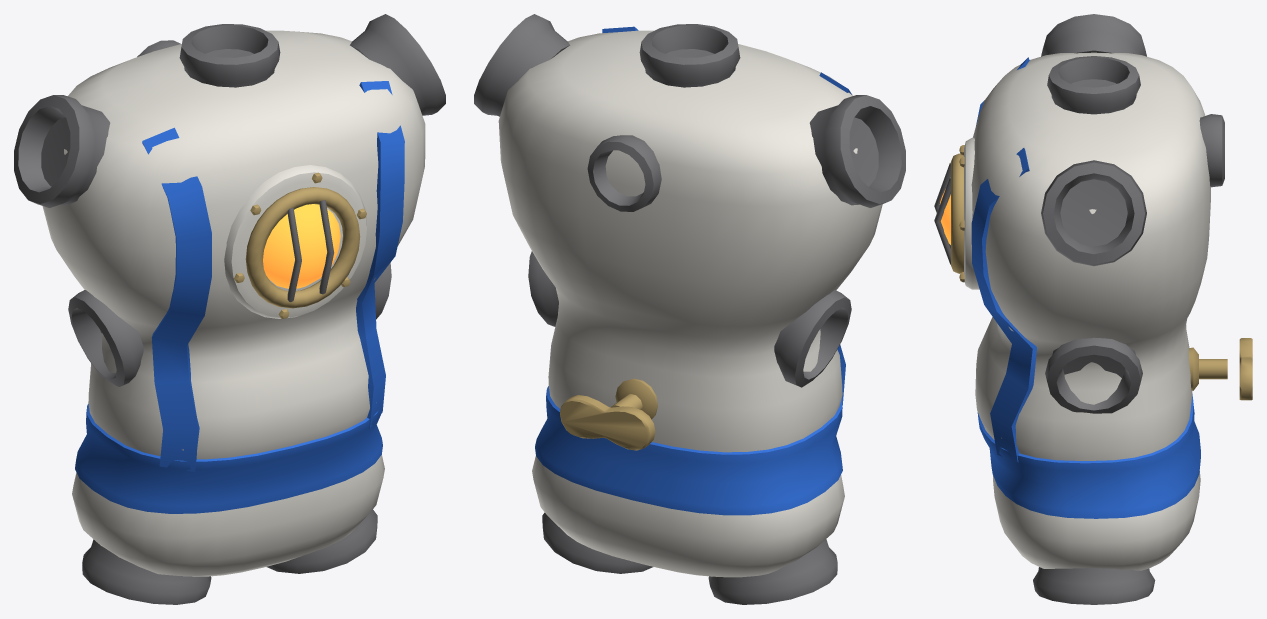
File: Kit_Core_Toy.glb
The picture shows the model from 3 angles, left to right: view 1: azimuth 30°, elevation 25°; view 2: azimuth 150°, elevation 25°; view 3: azimuth 270°, elevation 25°; orthographic projection. The views are drawn at different scales.
Visible parts, largest first — view 1: Kit_Core_Toy; view 2: Kit_Core_Toy; view 3: Kit_Core_Toy.
Boxes of the visible parts, x1,y1,x2,y2 form: Kit_Core_Toy: (14, 14, 445, 604); Kit_Core_Toy: (474, 14, 905, 604); Kit_Core_Toy: (934, 14, 1252, 604).
Bounding box in the file's own units: 0.4646 × 0.584 × 0.3435.
